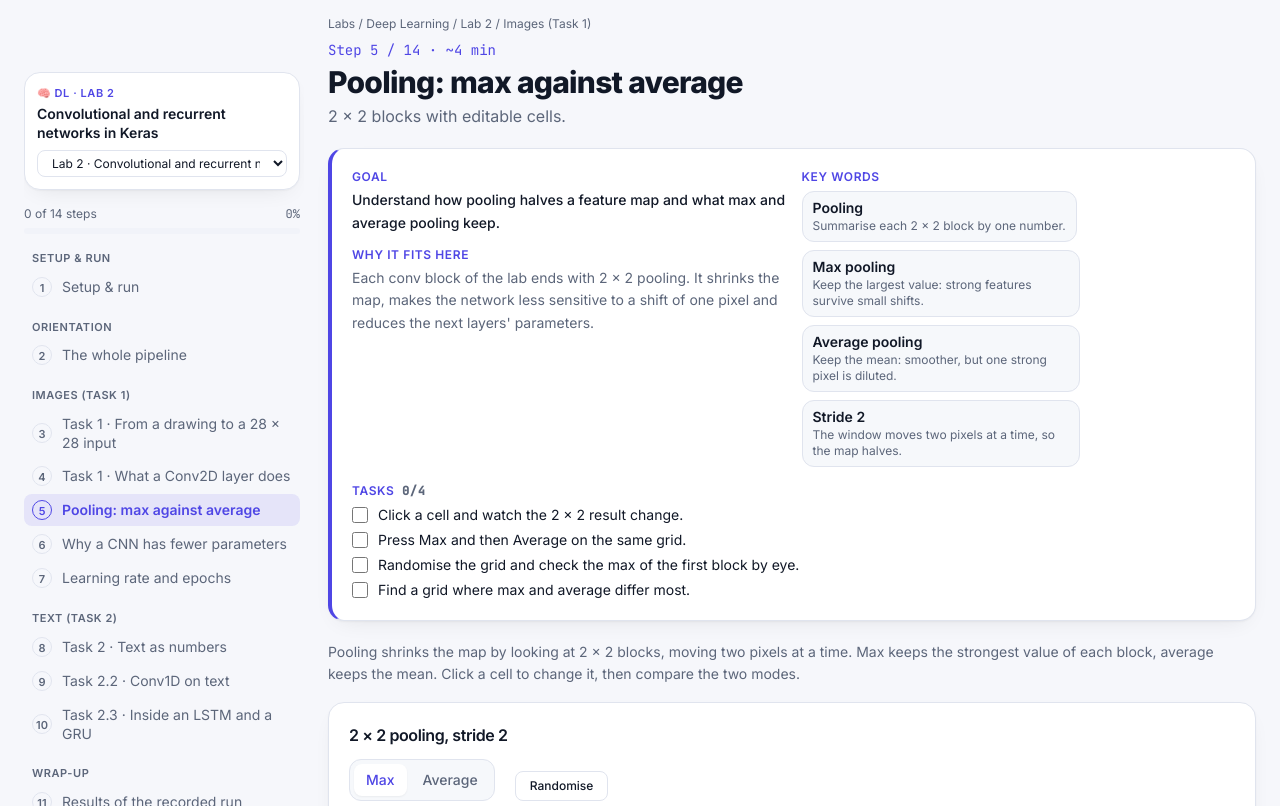
Test: Lab 2 widgets compute and respond › moving the pooling choice to average changes the output and the explanation
Expected: the heading "Pooling: max against average" is shown, [328,64,743,100]
Click the radio button labelled "Average" at (450,780), box [410,764,490,796]
(page scrolled)
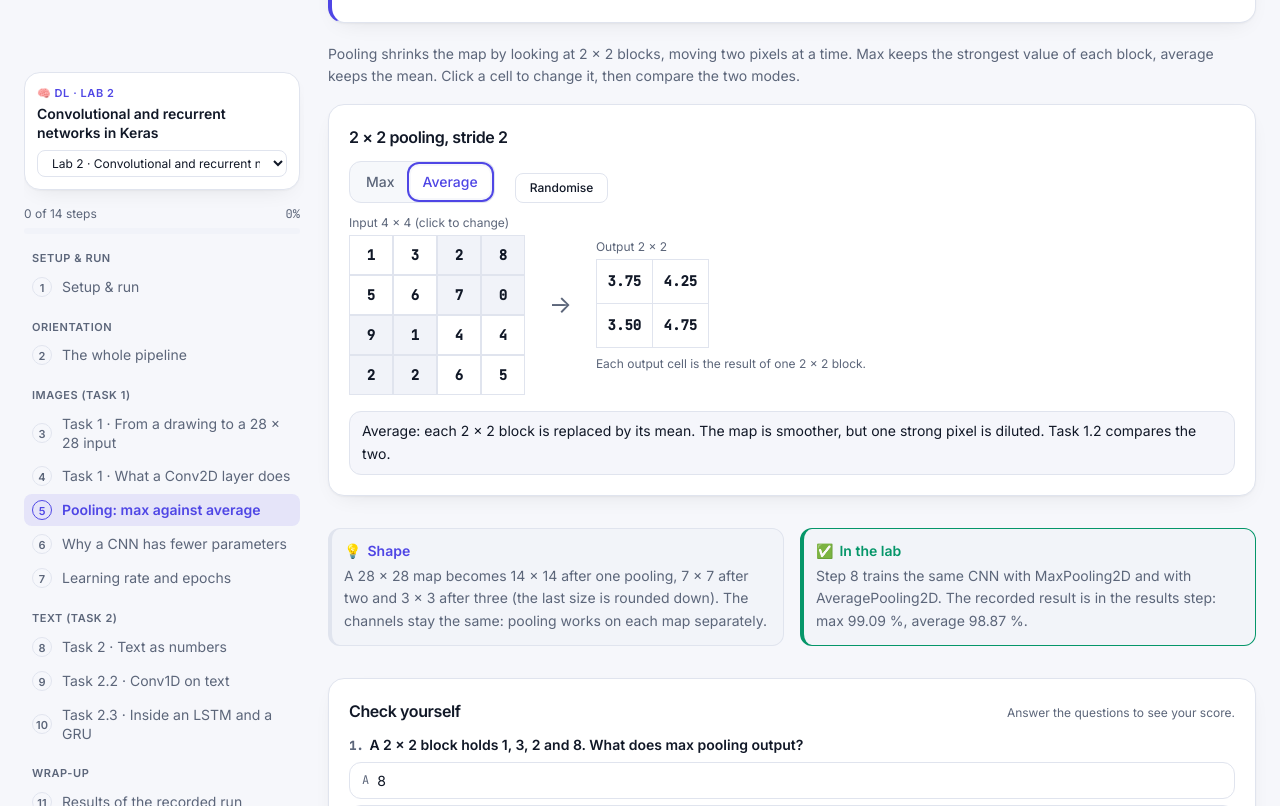
Expected: the table named "Output 2 × 2" shows "3.75", [608,272,641,290]
Expected: the text "Average: each 2 × 2 block is replaced by its mean" is shown, [362,422,1196,462]
